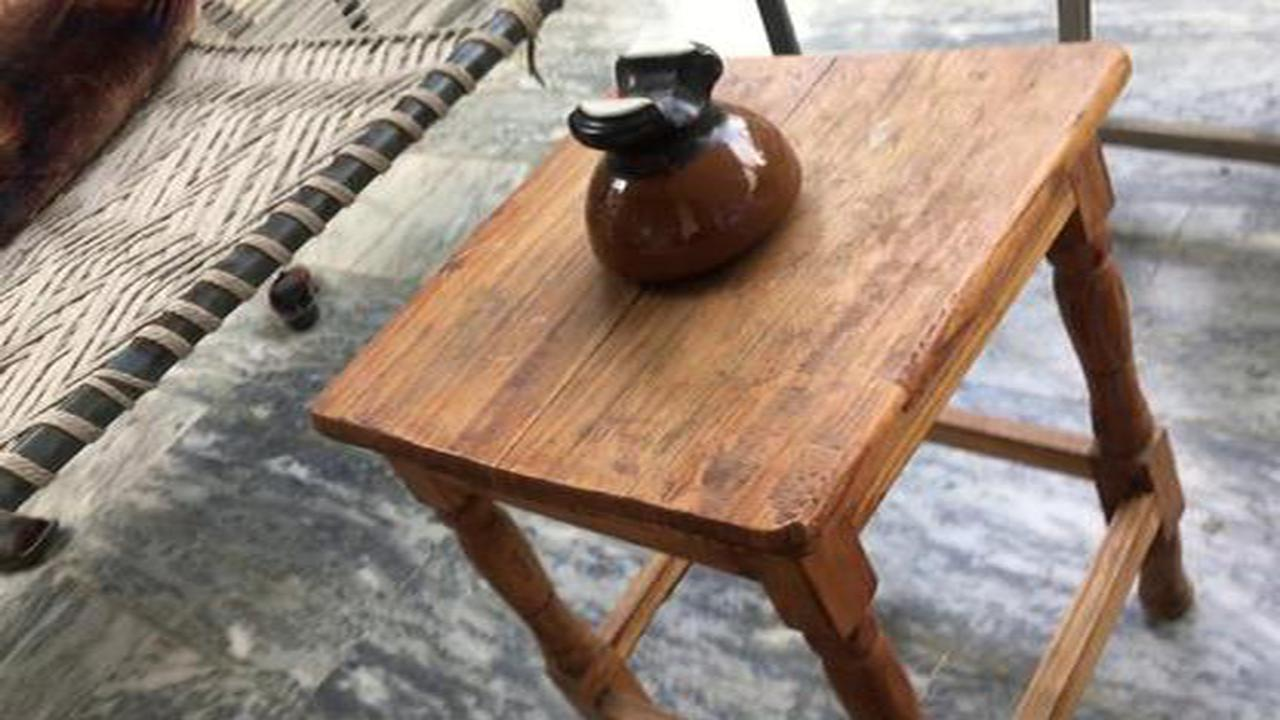insulator_pin: (545, 26, 810, 307)
